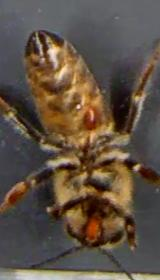varroa_mite: (77, 100, 104, 135)
